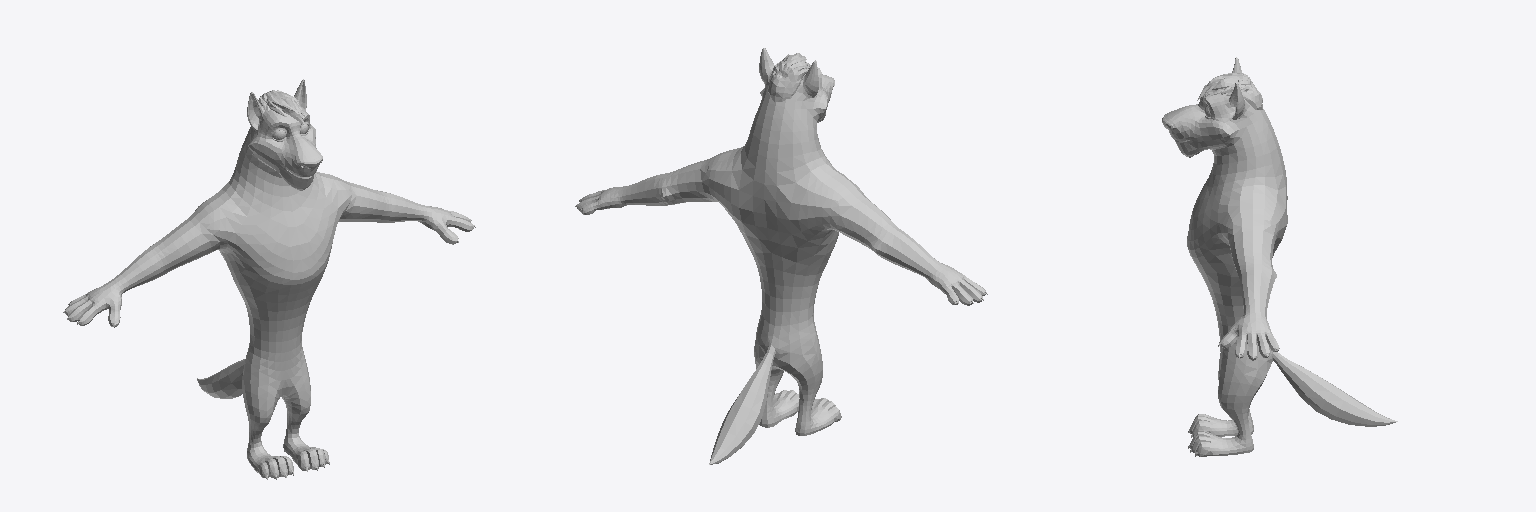
Rendered from Gray.obj.
3 views of the same model, side by side, from view 1: azimuth 30°, elevation 25°; view 2: azimuth 150°, elevation 25°; view 3: azimuth 270°, elevation 25° (orthographic).
Visible parts, largest first — view 1: g0; view 2: g0; view 3: g0.
Part boxes in pixels (bbox=[...]): g0: bbox=[63, 79, 475, 479]; g0: bbox=[575, 48, 987, 464]; g0: bbox=[1162, 57, 1397, 456].
Bounding box in the file's own units: 218 × 191 × 110.